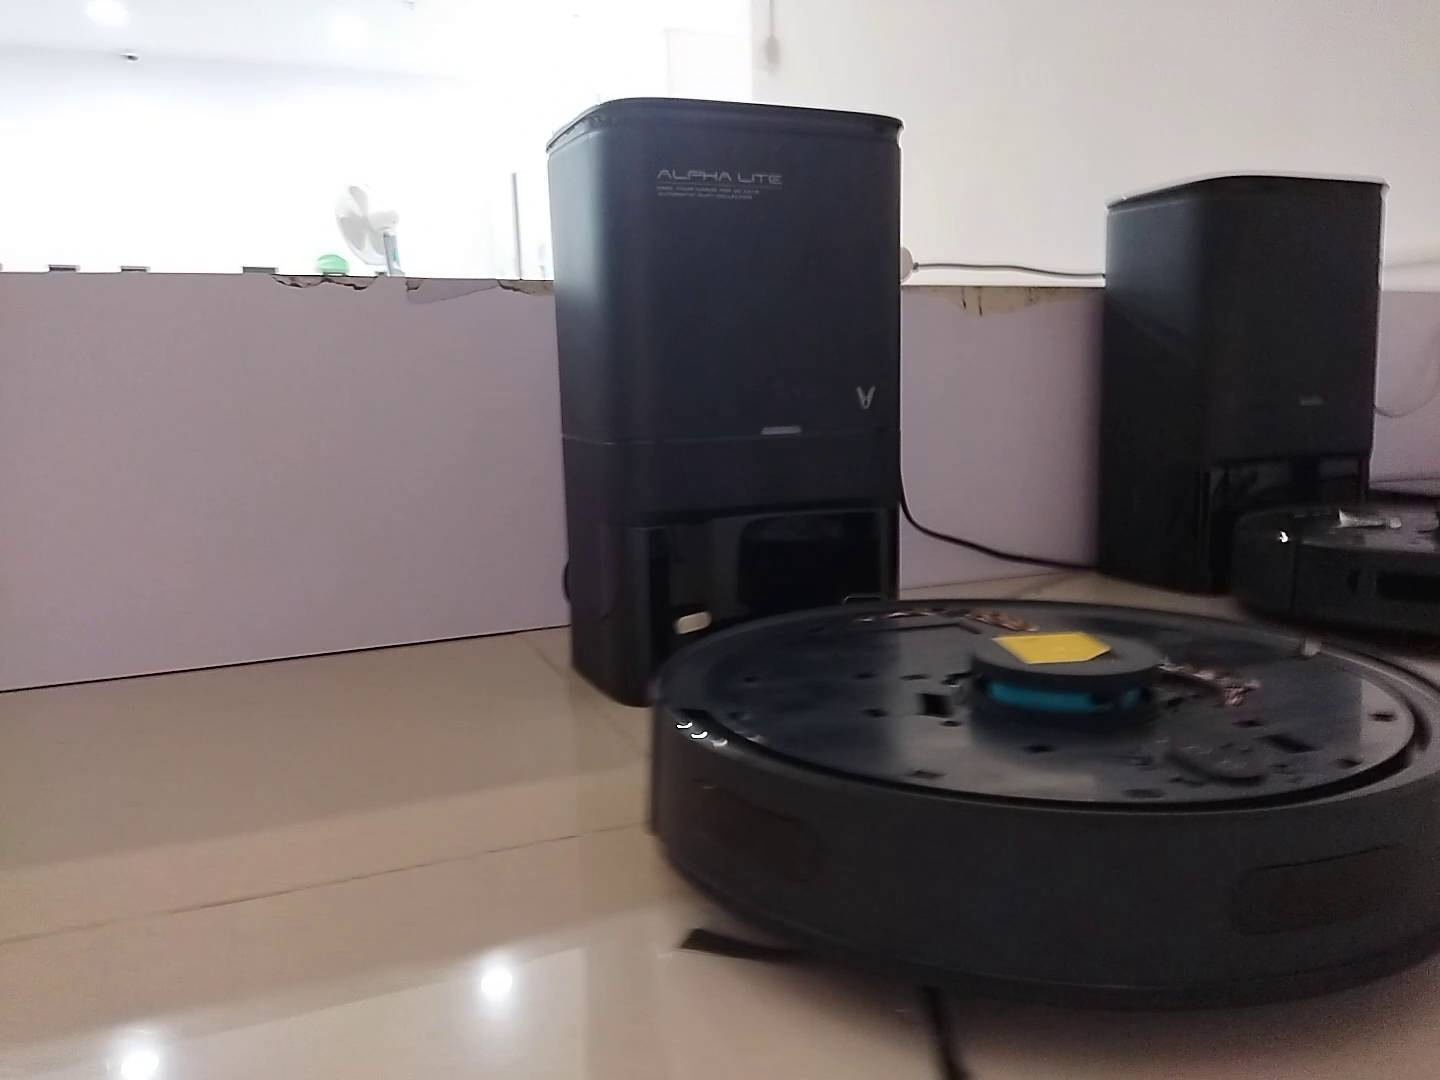dust collecting barrel: (544, 98, 912, 703), (1101, 175, 1388, 588)
